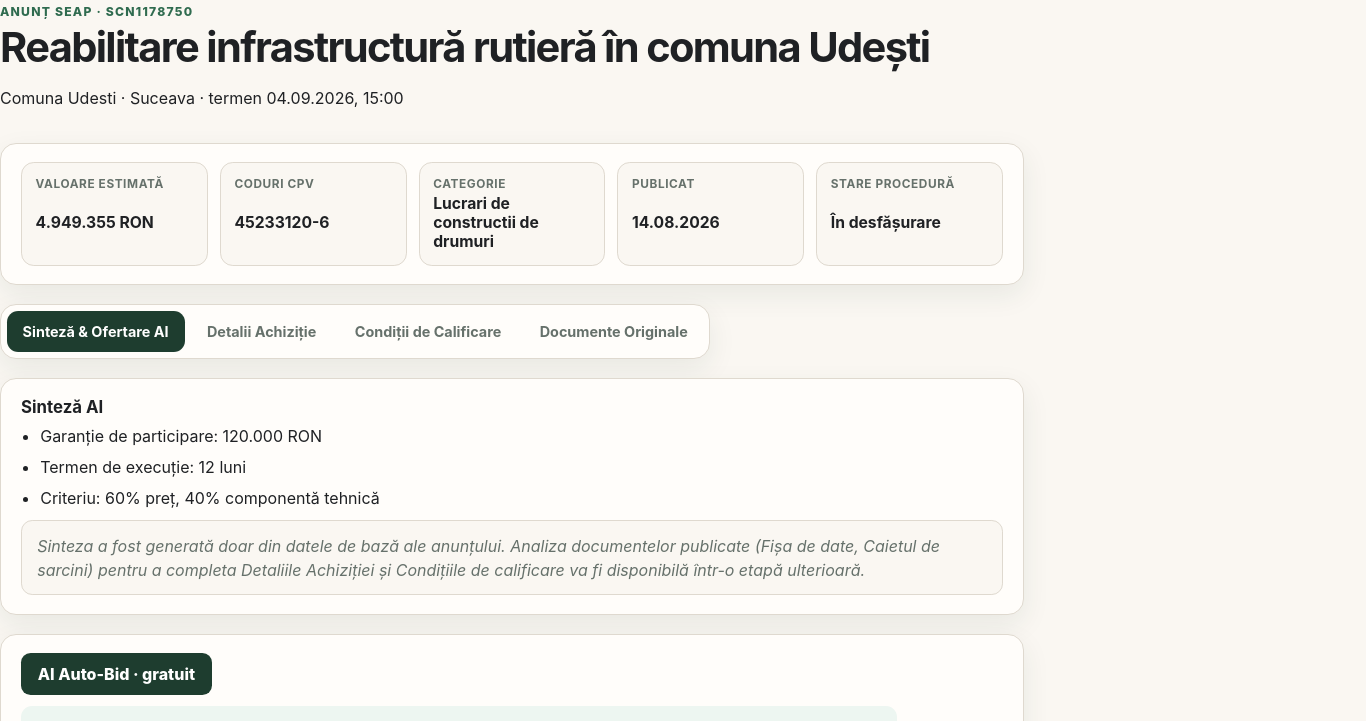
it: SeapTenderDetailComponent › falls back to the generic message when the failure carries no actionable detail
Click the button "AI Auto-Bid · gratuit": {"x": 116, "y": 674} [21,653,212,695]
(page scrolled)
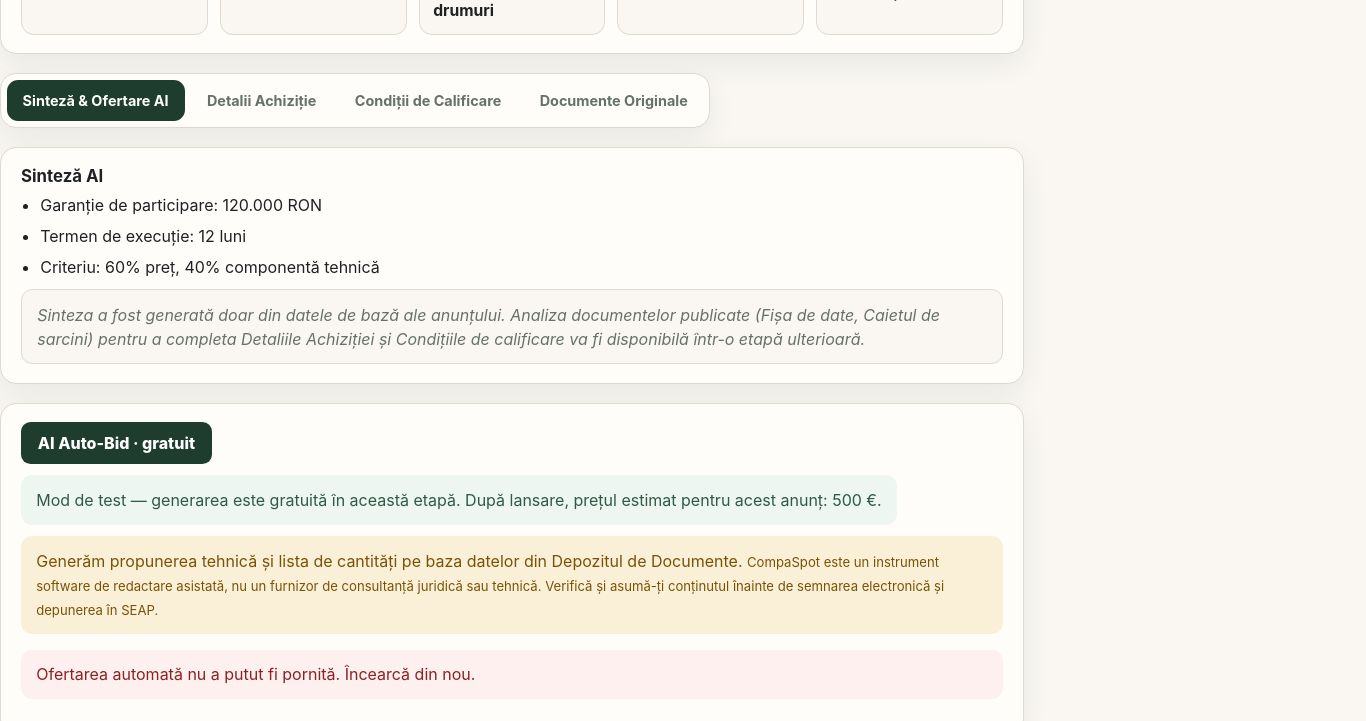
Check: the message "Ofertarea automată nu a putut fi pornită. Încearcă din nou." is shown, box [21,650,1003,699]
